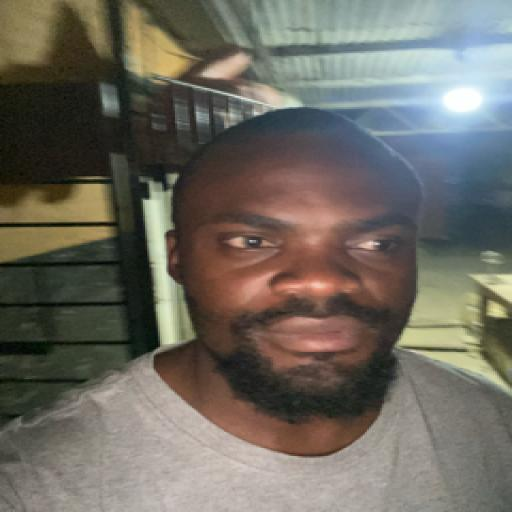JEANLUC: (169, 99, 428, 444)
